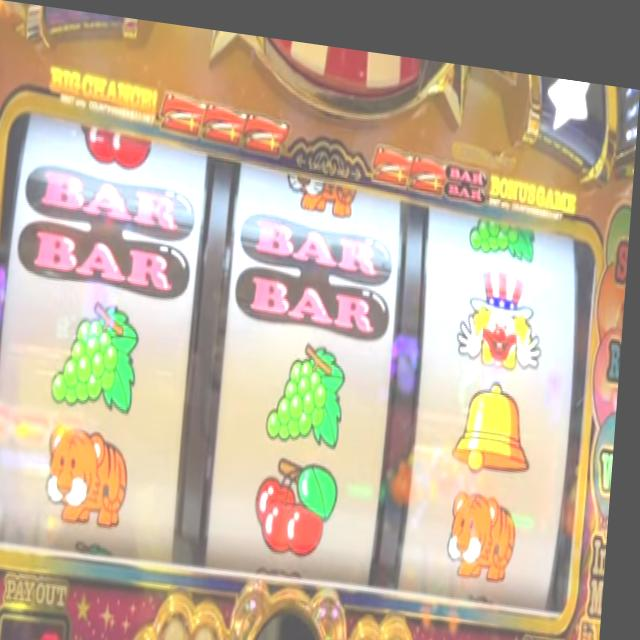bar: (20, 158, 199, 302), (237, 200, 399, 340), (447, 149, 491, 193)
bell: (457, 361, 541, 466)
cherry: (259, 439, 347, 552), (78, 118, 158, 170)
clown: (457, 245, 552, 363)
display: (0, 101, 601, 606)
grape: (53, 289, 146, 411), (267, 327, 353, 442), (468, 199, 543, 247)
tiger: (51, 422, 138, 527), (453, 473, 528, 574), (286, 160, 361, 210)
z: (242, 103, 292, 154), (160, 84, 207, 135), (202, 94, 246, 144), (373, 129, 414, 181), (410, 140, 448, 190)
